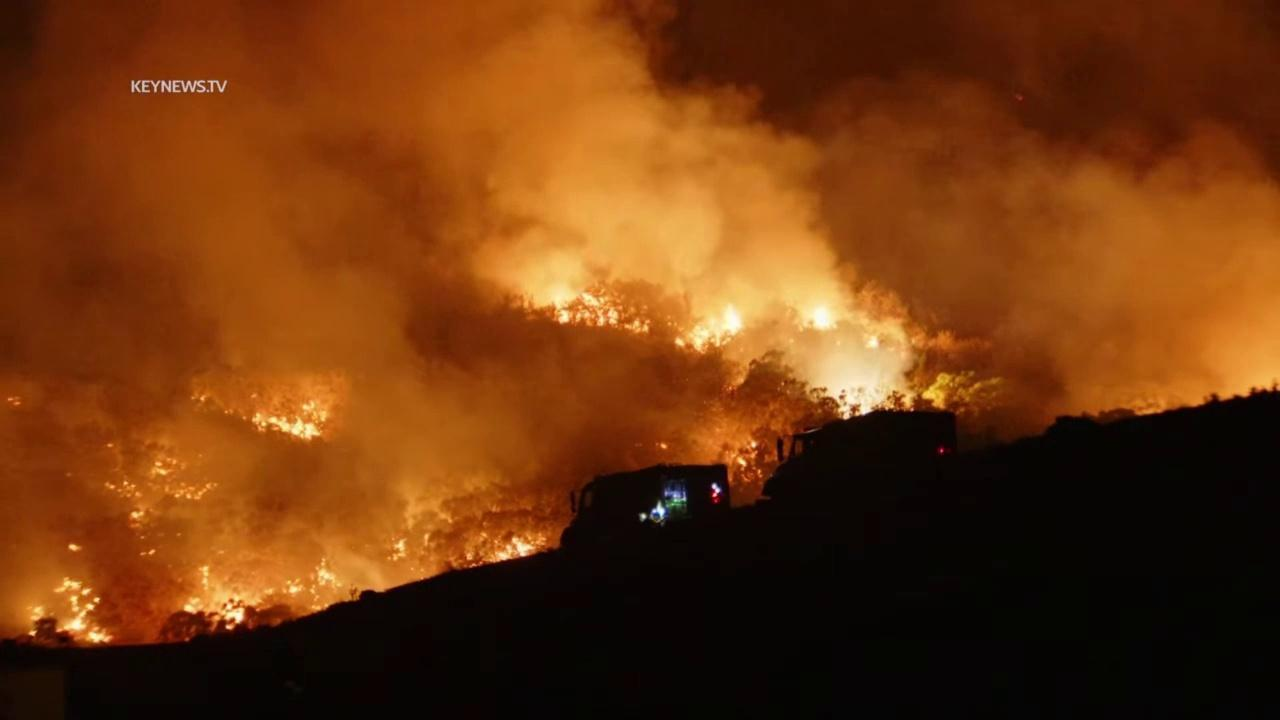fire: (217, 556, 344, 633), (25, 574, 116, 644), (811, 363, 882, 422), (673, 304, 744, 356), (250, 398, 330, 443), (464, 531, 548, 569), (150, 456, 219, 502), (550, 287, 621, 329), (805, 302, 838, 331), (732, 455, 764, 482), (104, 477, 144, 498), (384, 535, 409, 562), (623, 317, 651, 336), (183, 596, 205, 614), (128, 508, 146, 529), (198, 564, 210, 590), (863, 336, 880, 352), (66, 543, 82, 553), (748, 437, 760, 449), (139, 548, 157, 556), (658, 441, 668, 450)
smoke: (0, 0, 1280, 656)
